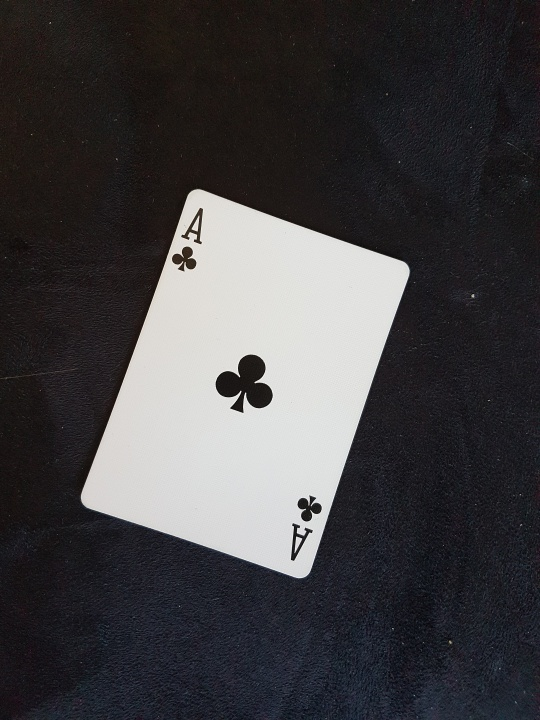ace: (72, 181, 415, 577)
